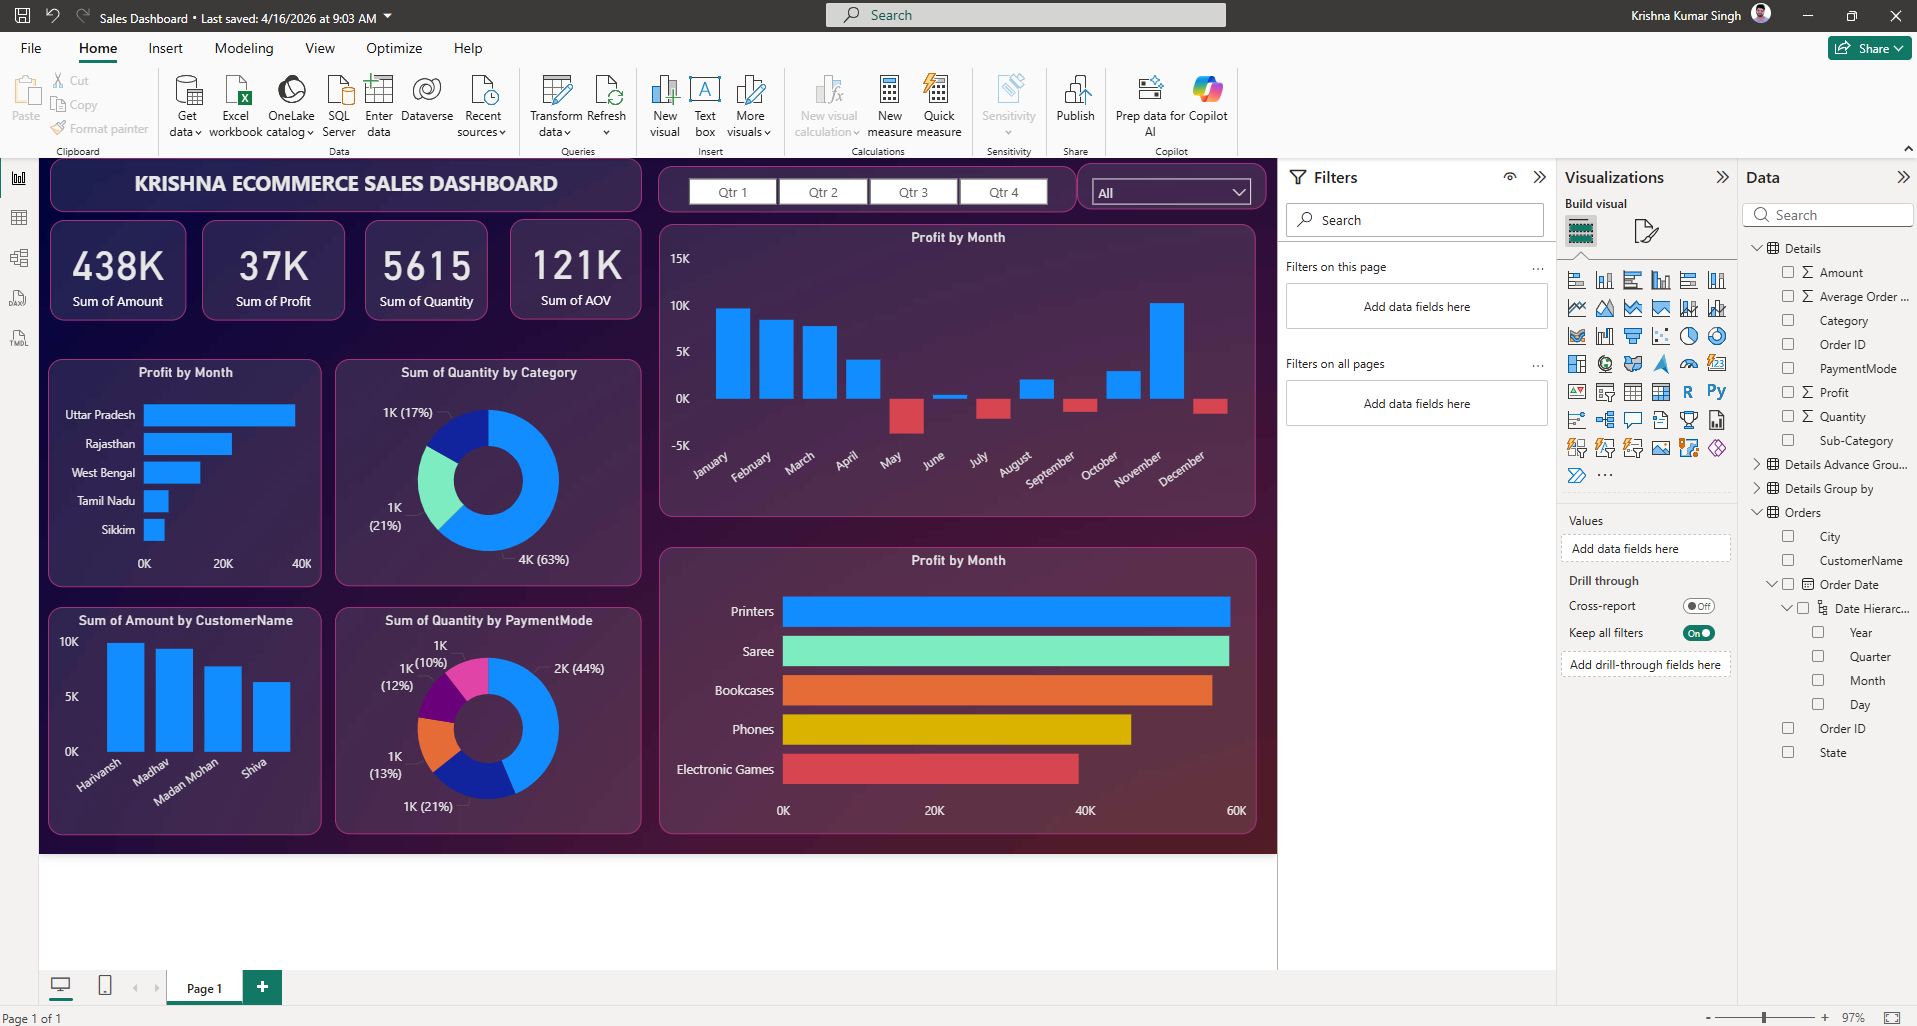

The page's visual inventory and layout, read from the dashboard file:
{"tool":"powerbi","page":{"name":"Page 1","canvas":[1280,720],"ordinal":0},"visuals":[{"type":"textbox","box":[11.4,0,612.1,55.8],"z":0},{"type":"columnChart","title":"Profit by Month","fields":{"Y":["Sum(Details.Profit)"],"Category":["Orders.Order Date.Variation.Date Hierarchy.Month"]},"box":[641,68.2,617.3,302.9],"z":1000},{"type":"barChart","title":"Profit by Month","fields":{"Category":["Details.Sub-Category"],"Y":["Sum(Details.Amount)"]},"box":[640.5,402,617.7,297.4],"z":2000},{"type":"donutChart","fields":{"Category":["Details.Category"],"Y":["Sum(Details.Quantity)"]},"box":[305.6,207.5,317,235.3],"z":3000},{"type":"donutChart","fields":{"Y":["Sum(Details.Quantity)"],"Category":["Details.PaymentMode"]},"box":[305.6,464.1,317,235.3],"z":4000},{"type":"card","fields":{"Values":["Sum(Details.Amount)"]},"box":[11.4,64.1,140.6,104.4],"z":5000},{"type":"card","fields":{"Values":["Sum(Details.Profit)"]},"box":[168.5,64.1,147.9,104.4],"z":6000},{"type":"card","fields":{"Values":["Sum(Details.Quantity)"]},"box":[337.1,64.1,127.2,104.4],"z":7000},{"type":"card","fields":{"Values":["Sum(Details.Average Order Value)"]},"box":[487,63.1,136.5,104.4],"z":8000},{"type":"barChart","title":"Profit by Month","fields":{"Y":["Sum(Details.Amount)"],"Category":["Orders.State"]},"box":[9.3,207.8,283.3,235.7],"z":9000},{"type":"columnChart","fields":{"Category":["Orders.CustomerName"],"Y":["Sum(Details.Amount)"]},"box":[9.3,464.2,283.3,235.7],"z":10000},{"type":"slicer","fields":{"Values":["Orders.Order Date.Variation.Date Hierarchy.Quarter"]},"box":[640,8.3,433.2,47.6],"z":10001},{"type":"slicer","fields":{"Values":["Orders.State"]},"box":[1073.2,5.2,196.4,47.6],"z":10002}]}

Visuals, with their boxes on the page's 1280x720 design canvas (x1, y1, x2, y2). These are canvas units, not pixel positions in the 1917x1026 screenshot, which may show the page scaled, cropped or inside an application window:
textbox: detection(11, 0, 624, 56)
"Profit by Month" columnChart: detection(641, 68, 1258, 371)
"Profit by Month" barChart: detection(640, 402, 1258, 699)
donutChart - Details.Category x Sum(Details.Quantity): detection(306, 208, 623, 443)
donutChart - Sum(Details.Quantity) x Details.PaymentMode: detection(306, 464, 623, 699)
card - Sum(Details.Amount): detection(11, 64, 152, 168)
card - Sum(Details.Profit): detection(168, 64, 316, 168)
card - Sum(Details.Quantity): detection(337, 64, 464, 168)
card - Sum(Details.Average Order Value): detection(487, 63, 624, 168)
"Profit by Month" barChart: detection(9, 208, 293, 444)
columnChart - Orders.CustomerName x Sum(Details.Amount): detection(9, 464, 293, 700)
slicer - Orders.Order Date.Variation.Date Hierarchy.Quarter: detection(640, 8, 1073, 56)
slicer - Orders.State: detection(1073, 5, 1270, 53)
